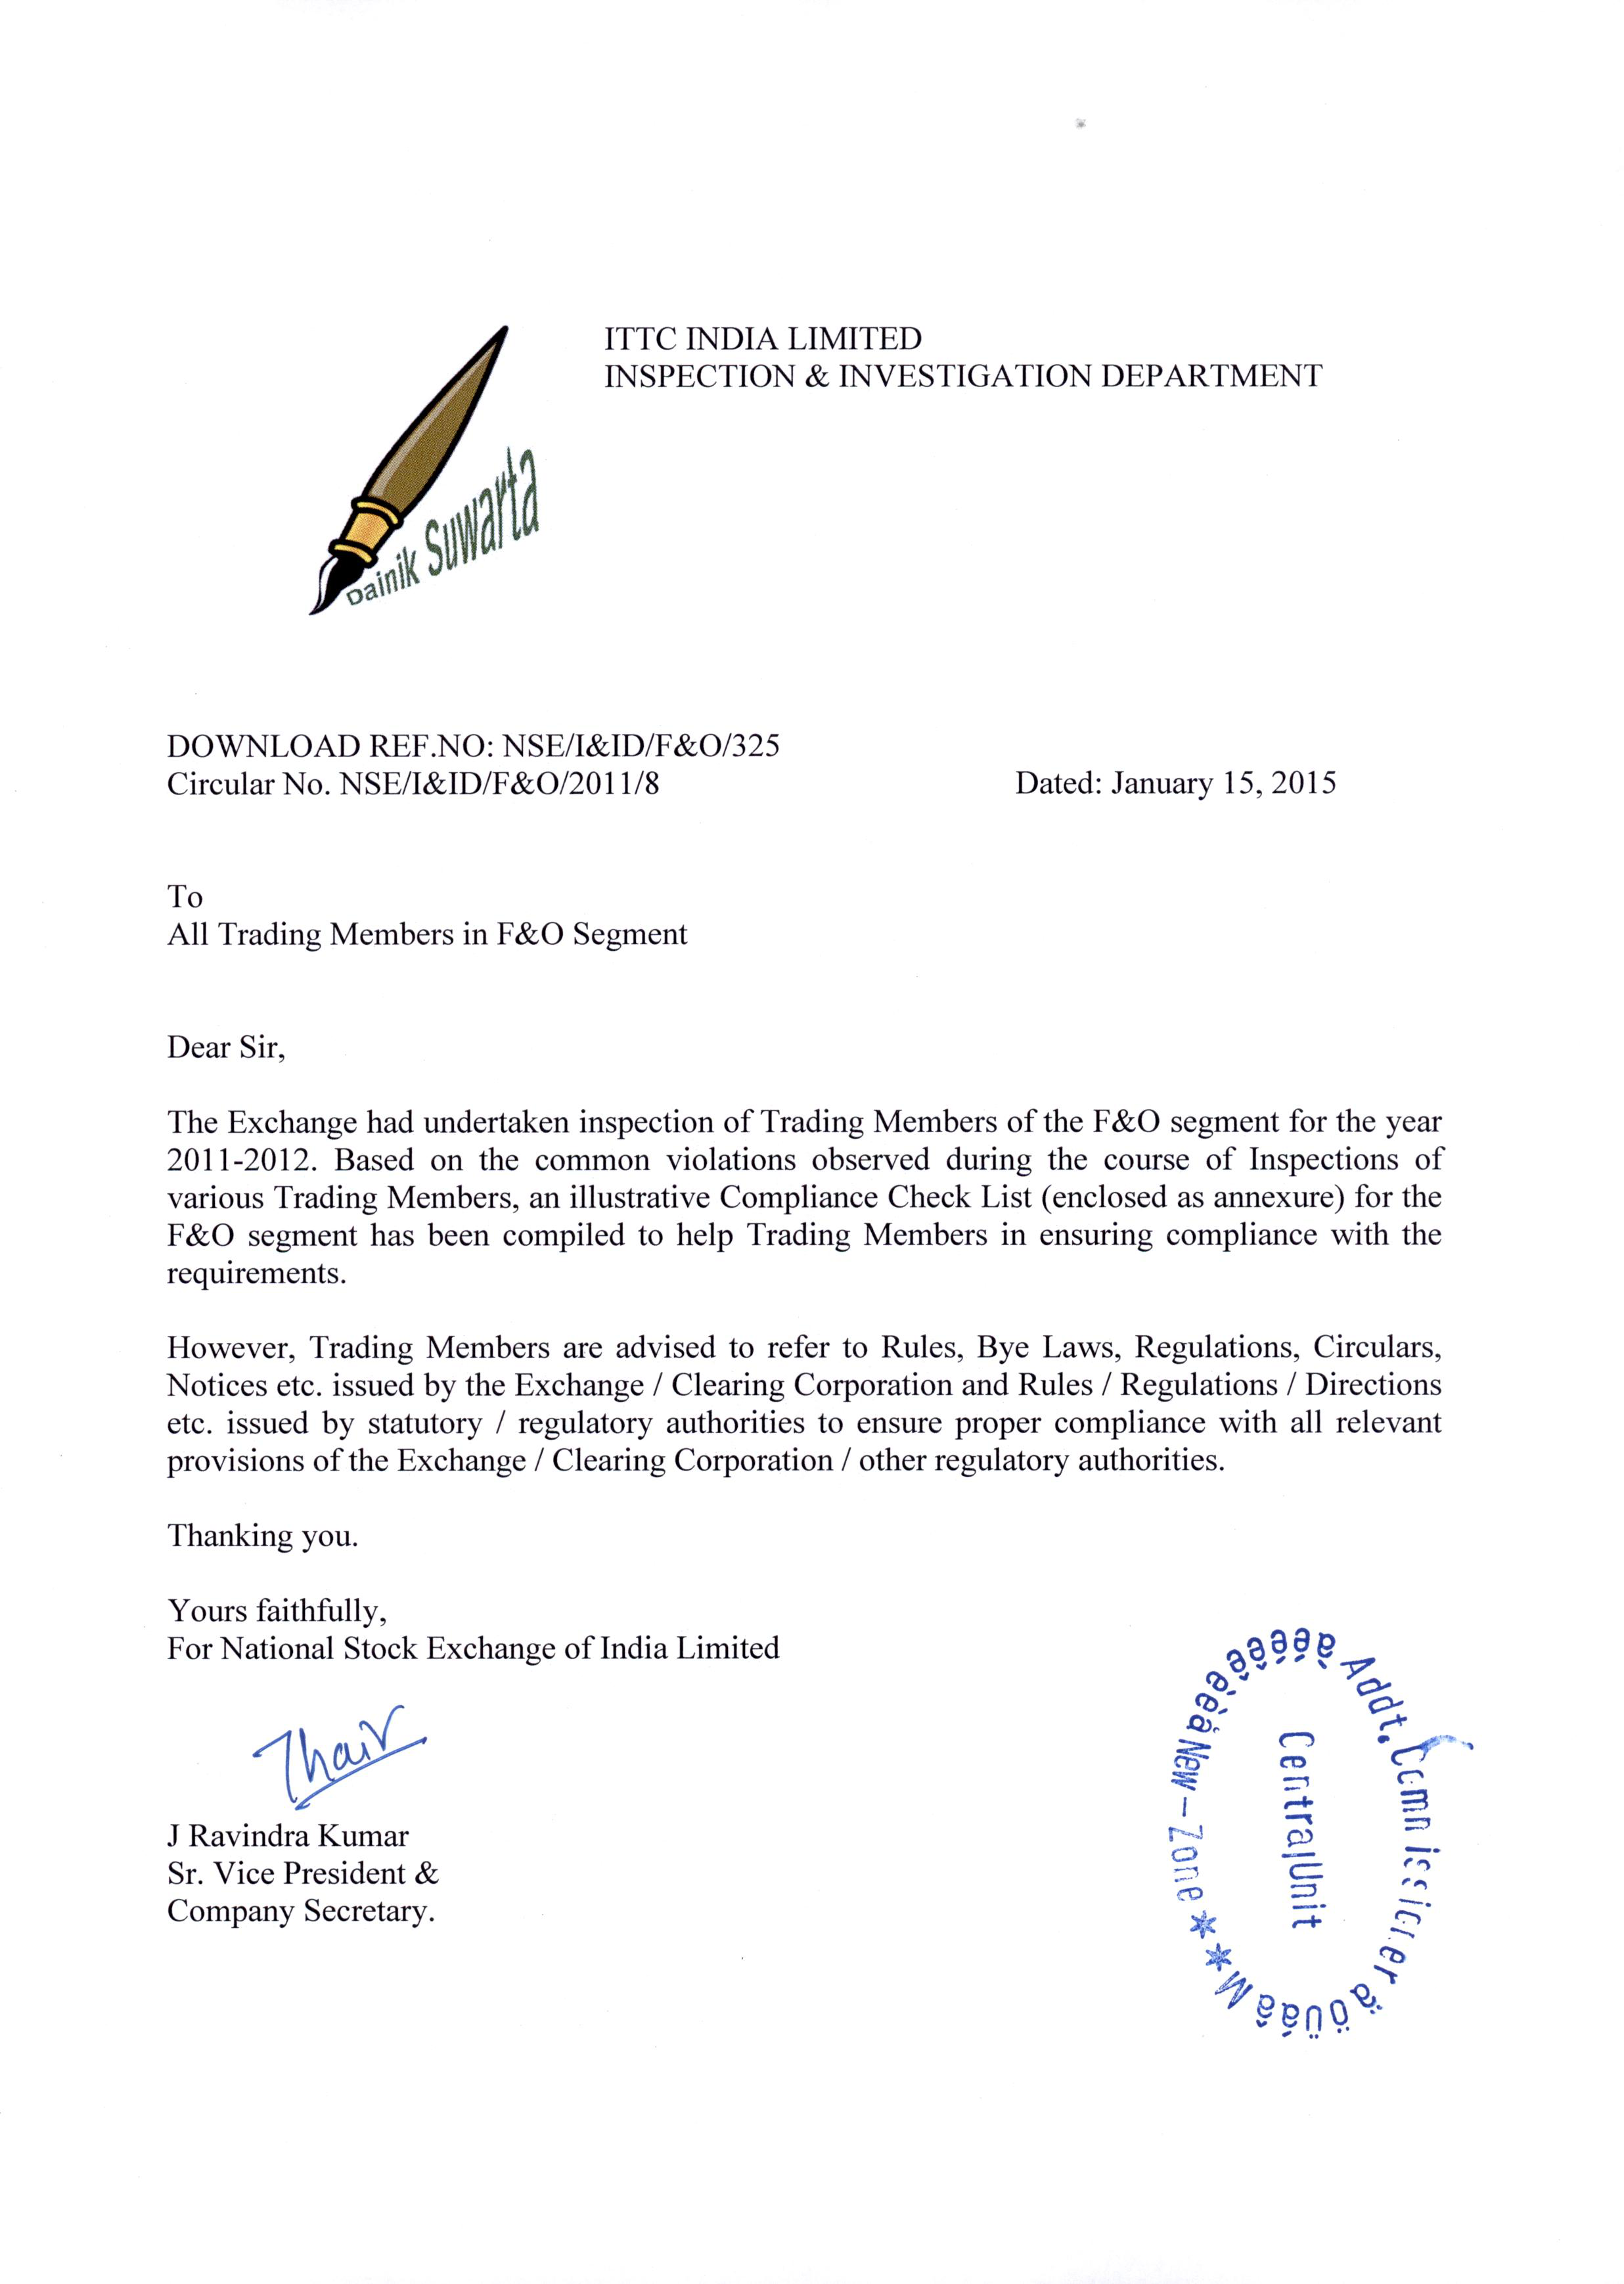Signature: (243, 1691, 438, 1815)
